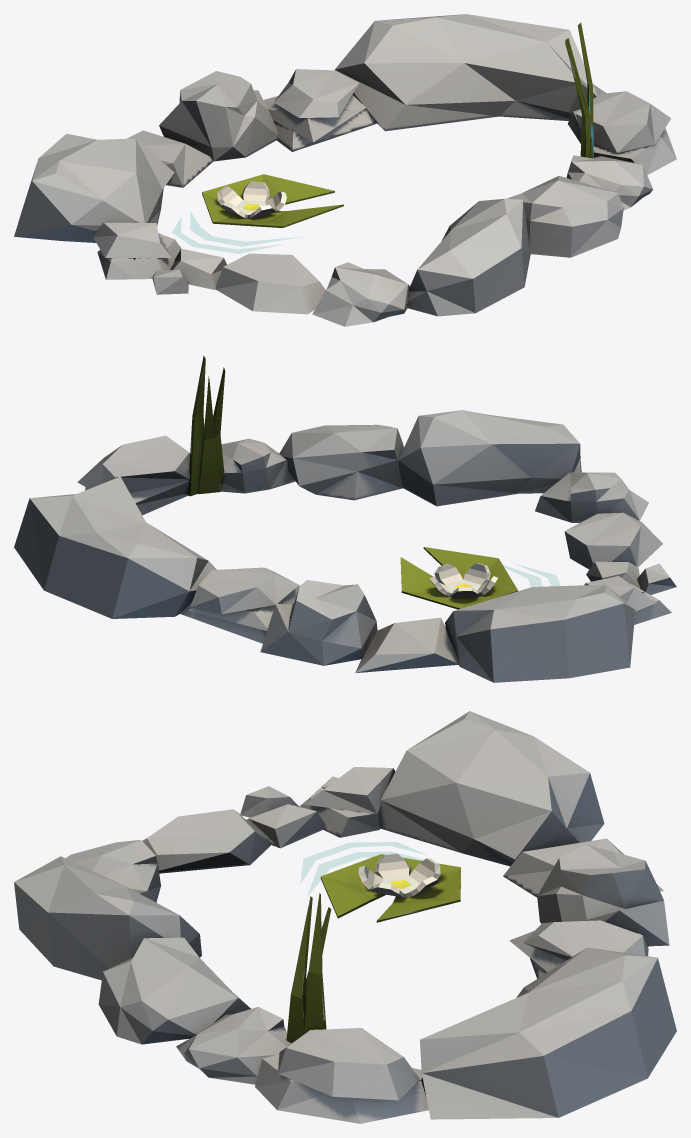
The model's file is pond_3_lev1.glb.
3 views of the same model, one above another, from view 1: azimuth 30°, elevation 25°; view 2: azimuth 150°, elevation 25°; view 3: azimuth 270°, elevation 25° (orthographic). The views are drawn at different scales.
Parts seen in each view (by area): view 1: pond_3_lev1; view 2: pond_3_lev1; view 3: pond_3_lev1.
Part boxes in pixels (left/top/right/bottom): pond_3_lev1: left=14, top=14, right=676, bottom=326; pond_3_lev1: left=14, top=355, right=676, bottom=682; pond_3_lev1: left=14, top=711, right=676, bottom=1123.
Size of the model in its own units: 0.9464 by 0.2155 by 0.755.
Materials: 1 (1 with a texture image).
